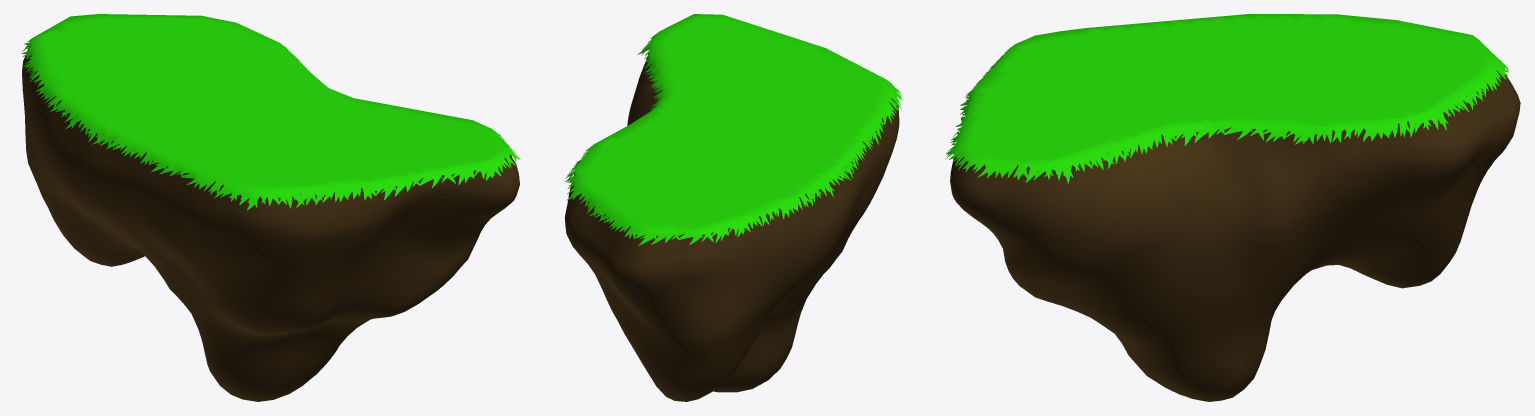
File: IslandGrassMedium1.FBX
3 views of the same model, side by side, from view 1: azimuth 30°, elevation 25°; view 2: azimuth 150°, elevation 25°; view 3: azimuth 270°, elevation 25° (orthographic). The views are drawn at different scales.
Visible parts, largest first — view 1: Object006; view 2: Object006; view 3: Object006.
Boxes of the visible parts, box(x1,y1,x2,y2) form: Object006: box(21, 14, 520, 401); Object006: box(564, 14, 902, 401); Object006: box(945, 14, 1520, 401).
Bounding box in the file's own units: 1033 × 875 × 1519.
